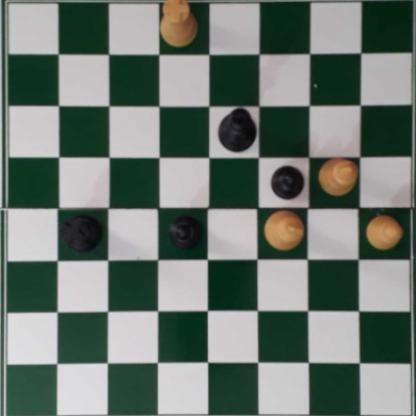black-king: (217, 108, 256, 152)
black-pawn: (167, 214, 205, 252), (269, 163, 304, 199)
black-rook: (62, 211, 102, 253)
white-bishop: (316, 154, 357, 198)
white-king: (264, 204, 305, 254)
white-pawn: (364, 212, 401, 249)
white-rook: (159, 0, 198, 47)
